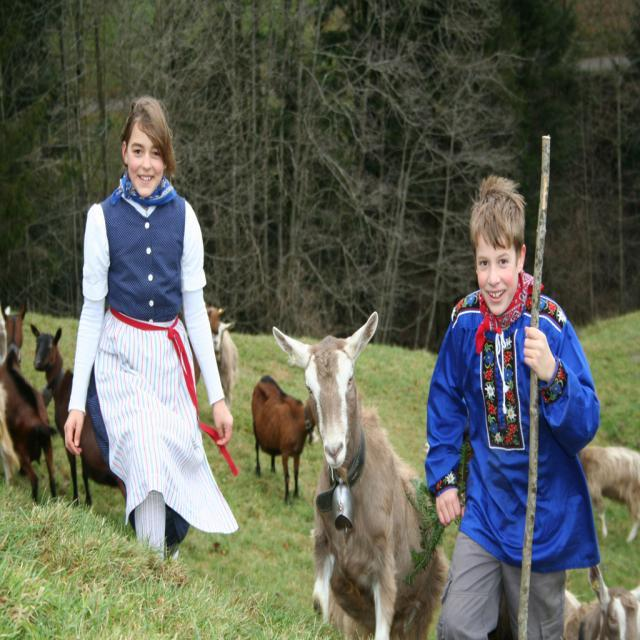Goat: (271, 310, 451, 638), (29, 321, 127, 509), (0, 348, 57, 502), (251, 374, 316, 504), (578, 443, 640, 543), (562, 563, 639, 639), (193, 304, 238, 410), (2, 299, 27, 364)
